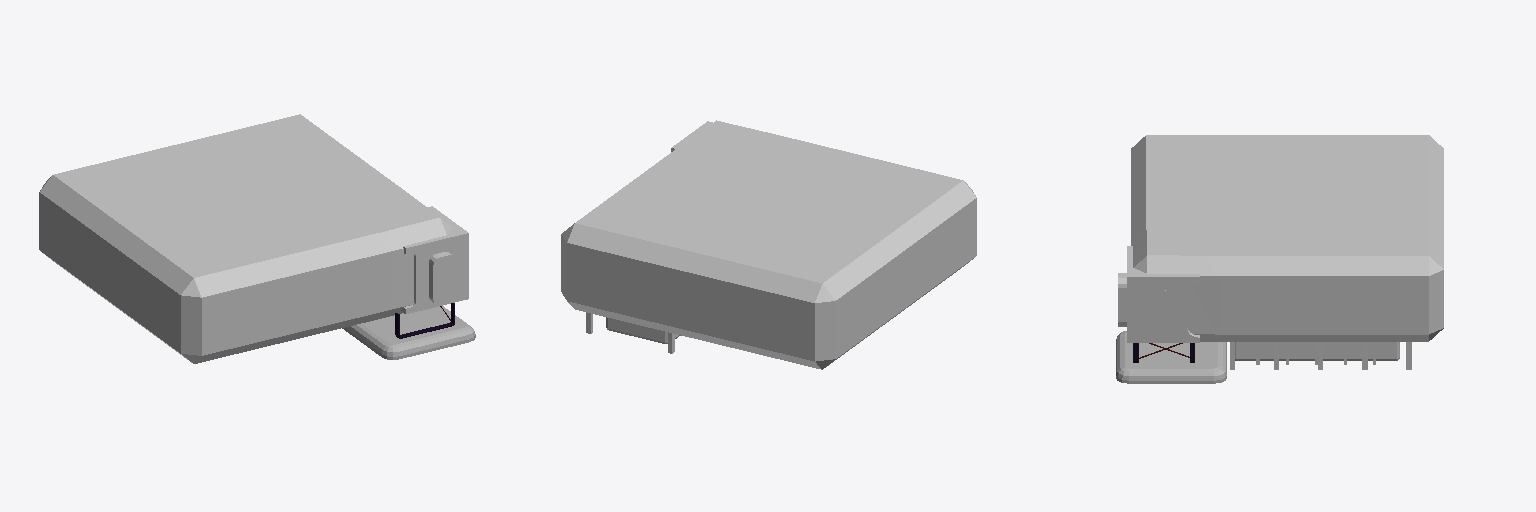
The model's file is greenHouse1.obj.
The picture shows the model from 3 angles: view 1: azimuth 30°, elevation 25°; view 2: azimuth 150°, elevation 25°; view 3: azimuth 270°, elevation 25°; orthographic projection.
Visible parts, largest first — view 1: Cube.002, Cutter.002_Cutter.017, Cube.001, Cutter.013_Cutter.014; view 2: Cube.002, Cube.003; view 3: Cube.002, Cutter.002_Cutter.017, Cube.001, Cube.003, Cutter.012, Plane.005.
Boxes of the visible parts, box(x1,y1,x2,y2) form: Cube.002: box(39, 114, 451, 363); Cutter.002_Cutter.017: box(342, 306, 475, 359); Cube.001: box(400, 206, 468, 313); Cutter.013_Cutter.014: box(429, 252, 455, 304); Cube.002: box(561, 120, 976, 369); Cube.003: box(606, 317, 680, 343); Cube.002: box(1131, 135, 1443, 341); Cutter.002_Cutter.017: box(1116, 331, 1226, 383); Cube.001: box(1127, 246, 1199, 342); Cube.003: box(1235, 342, 1399, 364); Cutter.012: box(1145, 290, 1170, 337); Plane.005: box(1230, 342, 1411, 369).
Size of the model in its own units: 9 by 3.52 by 9.